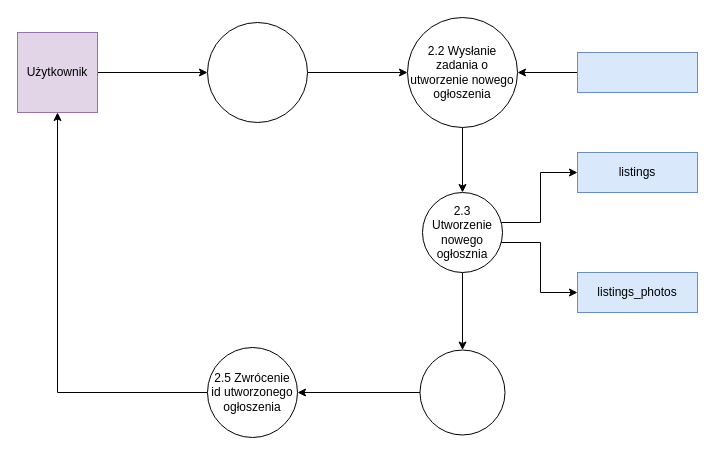
This 715x455 diagram has some shape labels left out. The centre of each missing label's shape, as x and y in pixels:
"2.1 Użytkownik wprowadza dane ogłoszenia" belongs at pixel 257 72.
"2.4 Sprawdzanie poprawności wykonania operacji" belongs at pixel 462 392.
"users" belongs at pixel 637 72.
